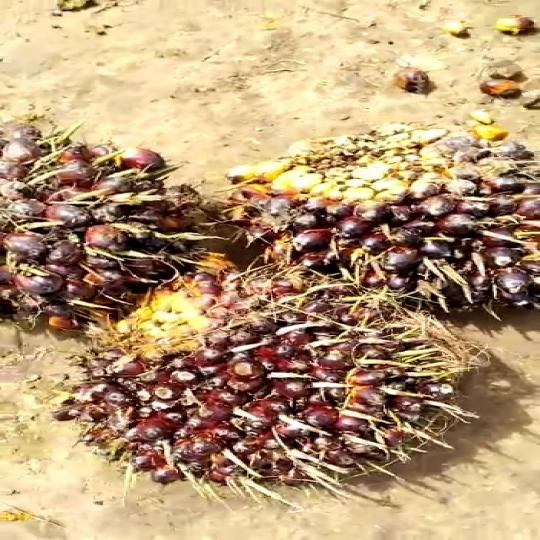kurang masak: (46, 275, 501, 503), (225, 124, 540, 306), (0, 123, 209, 330)
